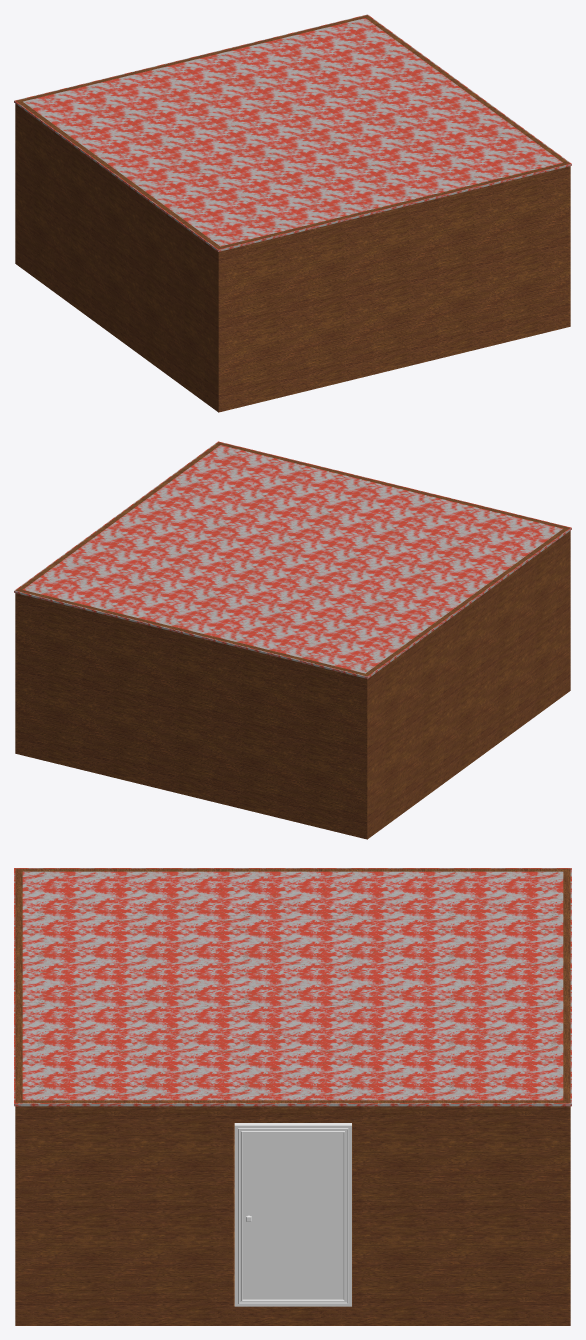
File: room.glb
The picture shows the model from 3 angles, top to bottom: view 1: azimuth 30°, elevation 25°; view 2: azimuth 150°, elevation 25°; view 3: azimuth 270°, elevation 25°; orthographic projection. The views are drawn at different scales.
Parts seen in each view (by area): view 1: Room, Ceiling; view 2: Room, Ceiling; view 3: Ceiling, Room, Door.
Boxes of the visible parts, x1,y1,x2,y2 form: Room: [15, 15, 570, 412]; Ceiling: [14, 14, 571, 251]; Room: [15, 442, 570, 839]; Ceiling: [14, 441, 571, 678]; Ceiling: [14, 868, 571, 1106]; Room: [15, 868, 570, 1325]; Door: [234, 1123, 351, 1306].
Size of what is drawn, in the model's own units: 5.51 by 2.39 by 5.43.
Materials: 7 (6 with a texture image).
